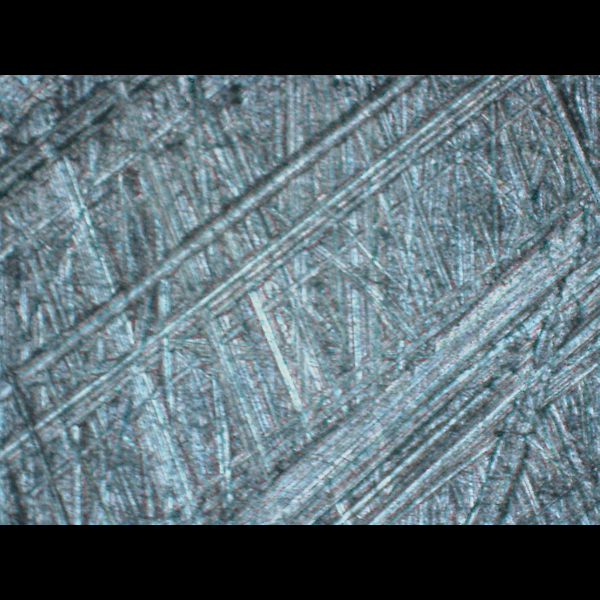d: (0, 74, 597, 523)
